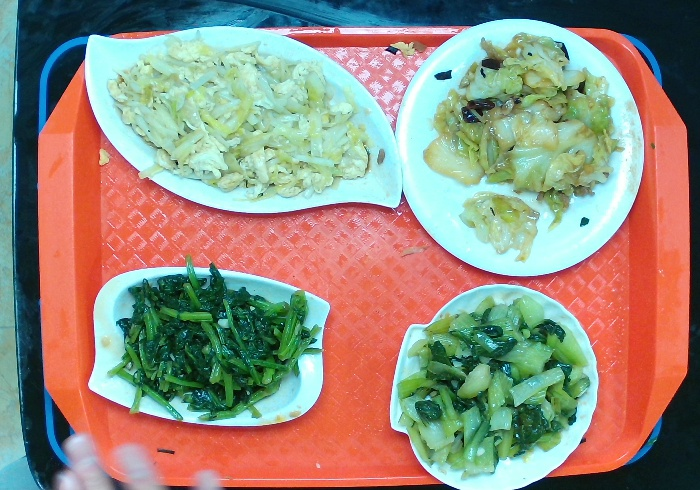RJxy-Bei_Ke_Wan: (385, 281, 603, 490)
RJxy-Jian_Jiao_Fang_Die: (82, 261, 334, 430)
RJxy-Jian_Jiao_Pan: (77, 19, 406, 223)
RJxy-Yuan_Pan: (389, 10, 652, 279)
